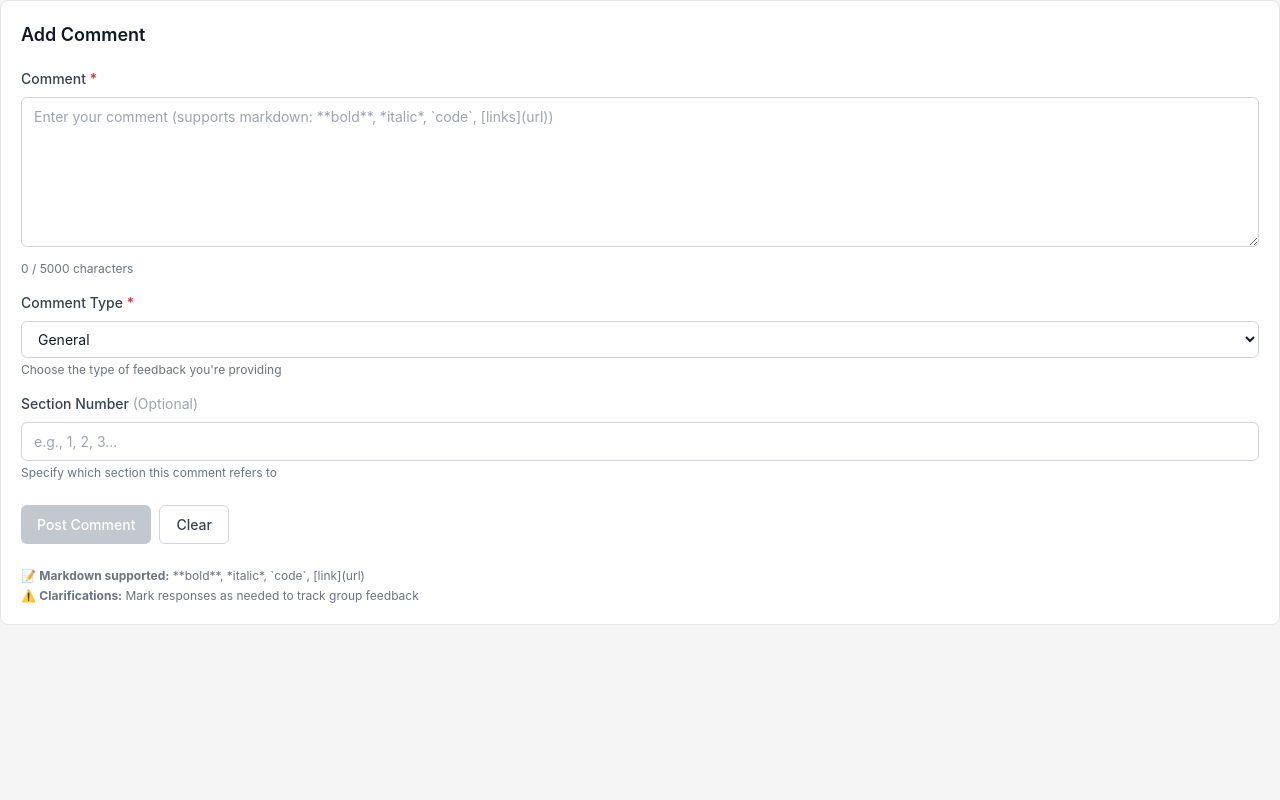
Test: AddCommentForm › Error Handling › shows error message when addComment fails
The width and height of the screenshot is (1280, 800).
Type "Test" into the text box named "Comment content" at (640, 172), box [21, 97, 1259, 247]
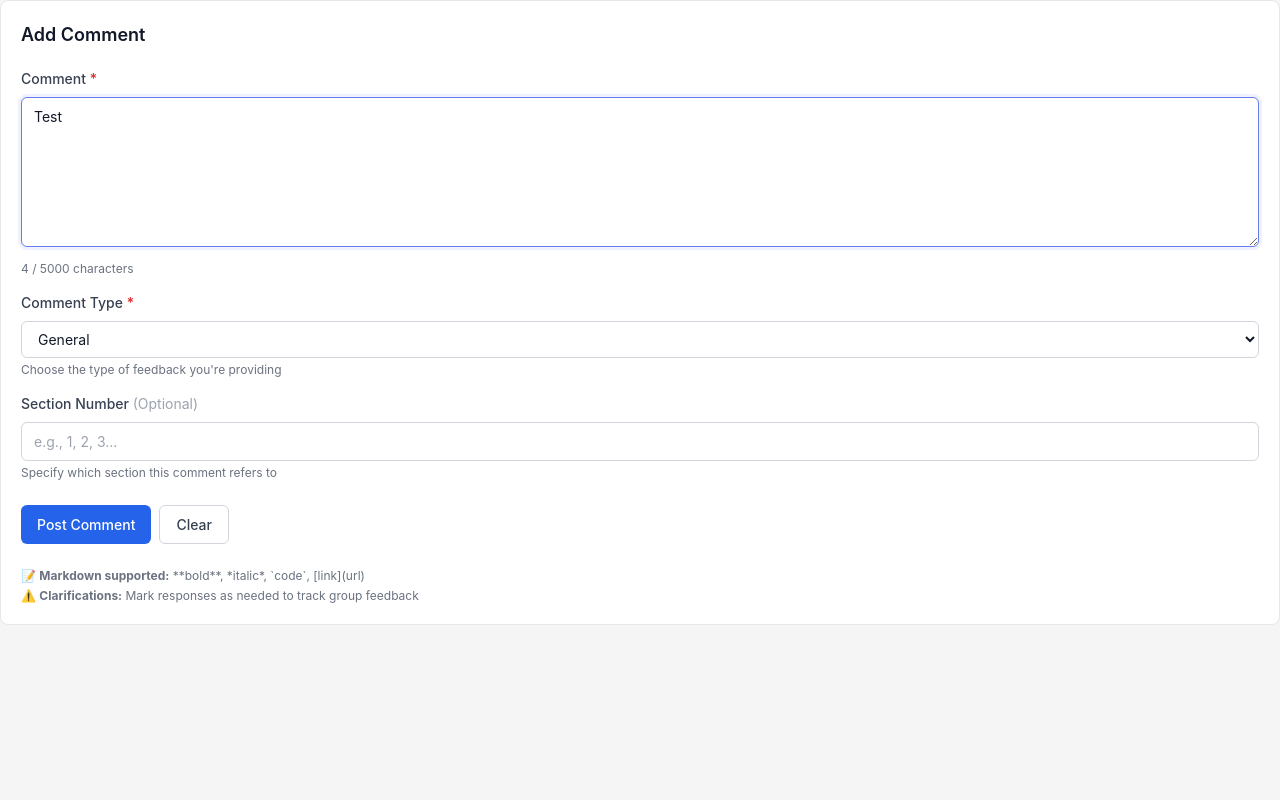
Click the button with aria-label "Submit comment" at (86, 524), box [21, 505, 151, 544]
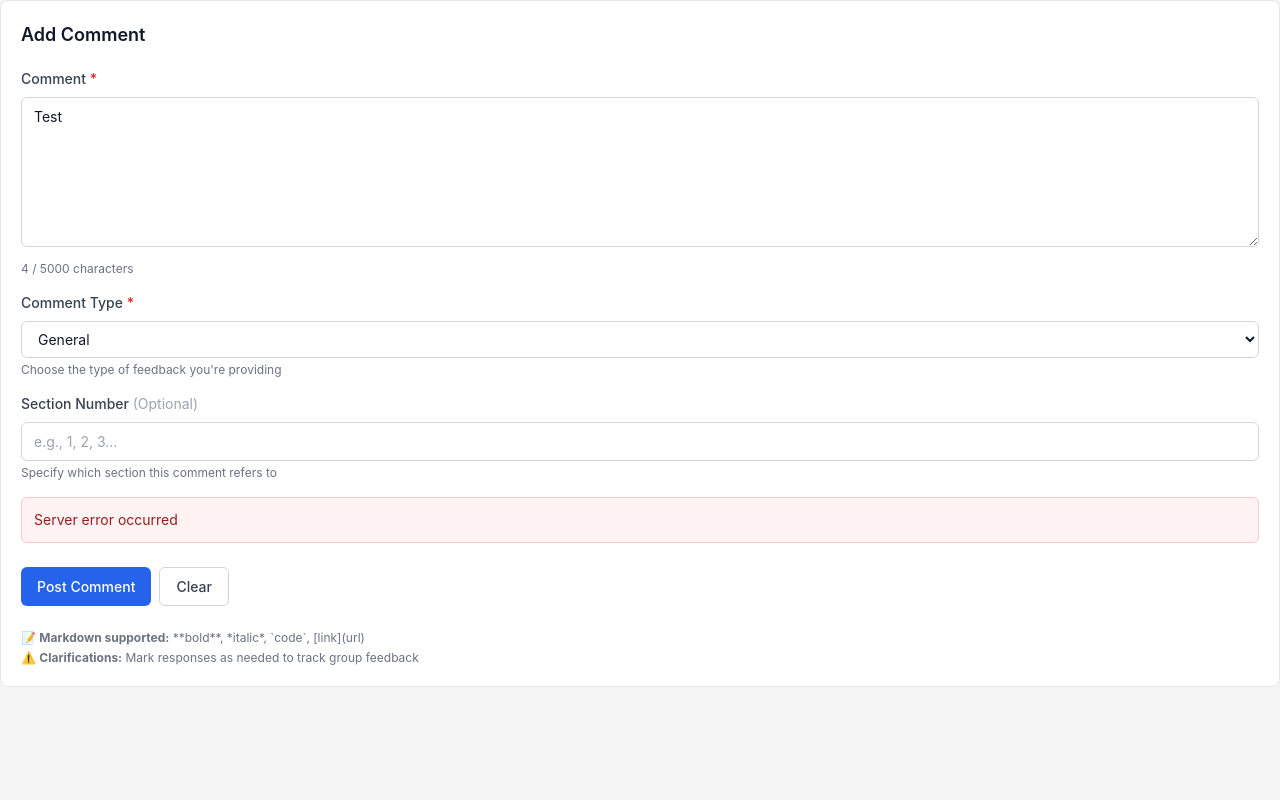
Expected: the text "Server error occurred" is shown, [34, 511, 178, 528]
